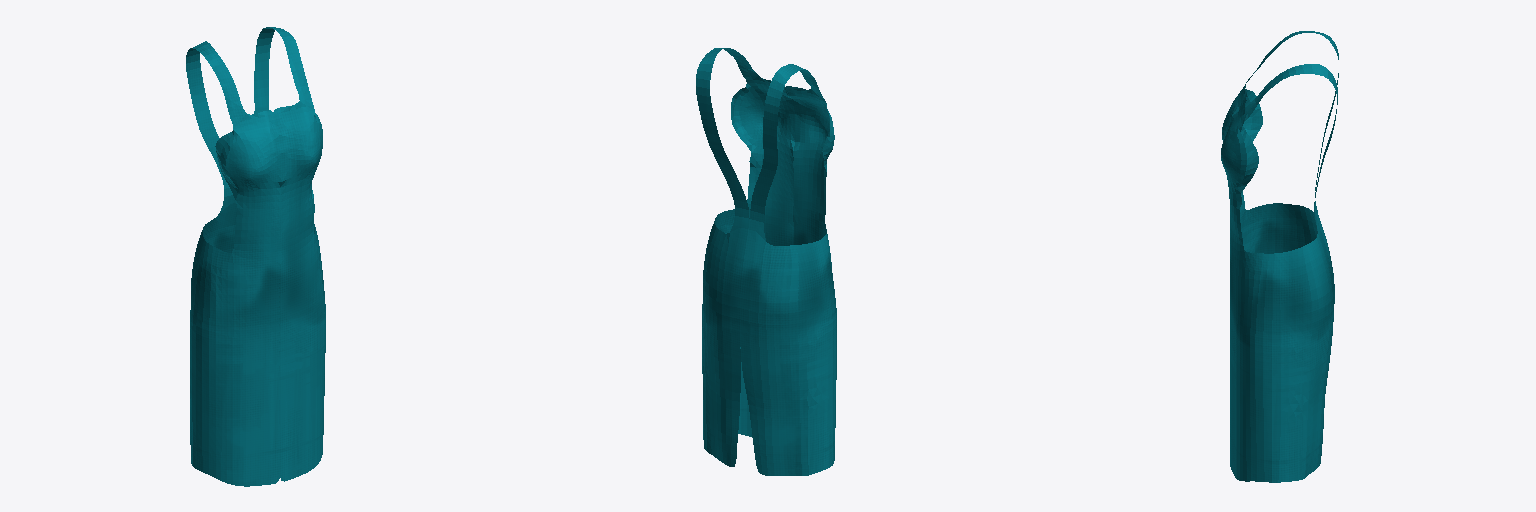
3 views of the same model, side by side, from view 1: azimuth 30°, elevation 25°; view 2: azimuth 150°, elevation 25°; view 3: azimuth 270°, elevation 25° (orthographic).
Parts seen in each view (by area): view 1: Plane.001; view 2: Plane.001; view 3: Plane.001.
Part boxes in pixels (x1,y1,x2,y2): Plane.001: (186,27,325,486); Plane.001: (696,48,836,475); Plane.001: (1221,31,1338,482).
Bounding box in the file's own units: 3.01 × 9.57 × 2.47.
Materials: 1 (1 with a texture image).